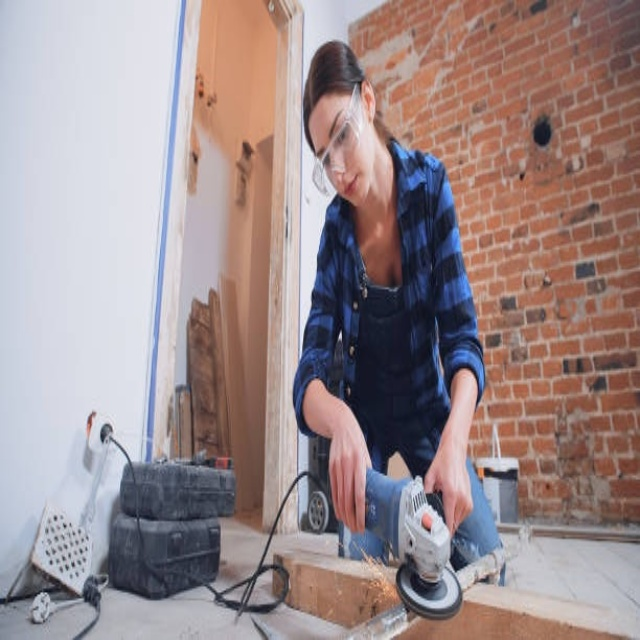Gafas: (313, 83, 363, 195)
Sin_guantes: (423, 424, 474, 538), (327, 415, 373, 534)
Sin_mascara: (341, 164, 369, 210)
